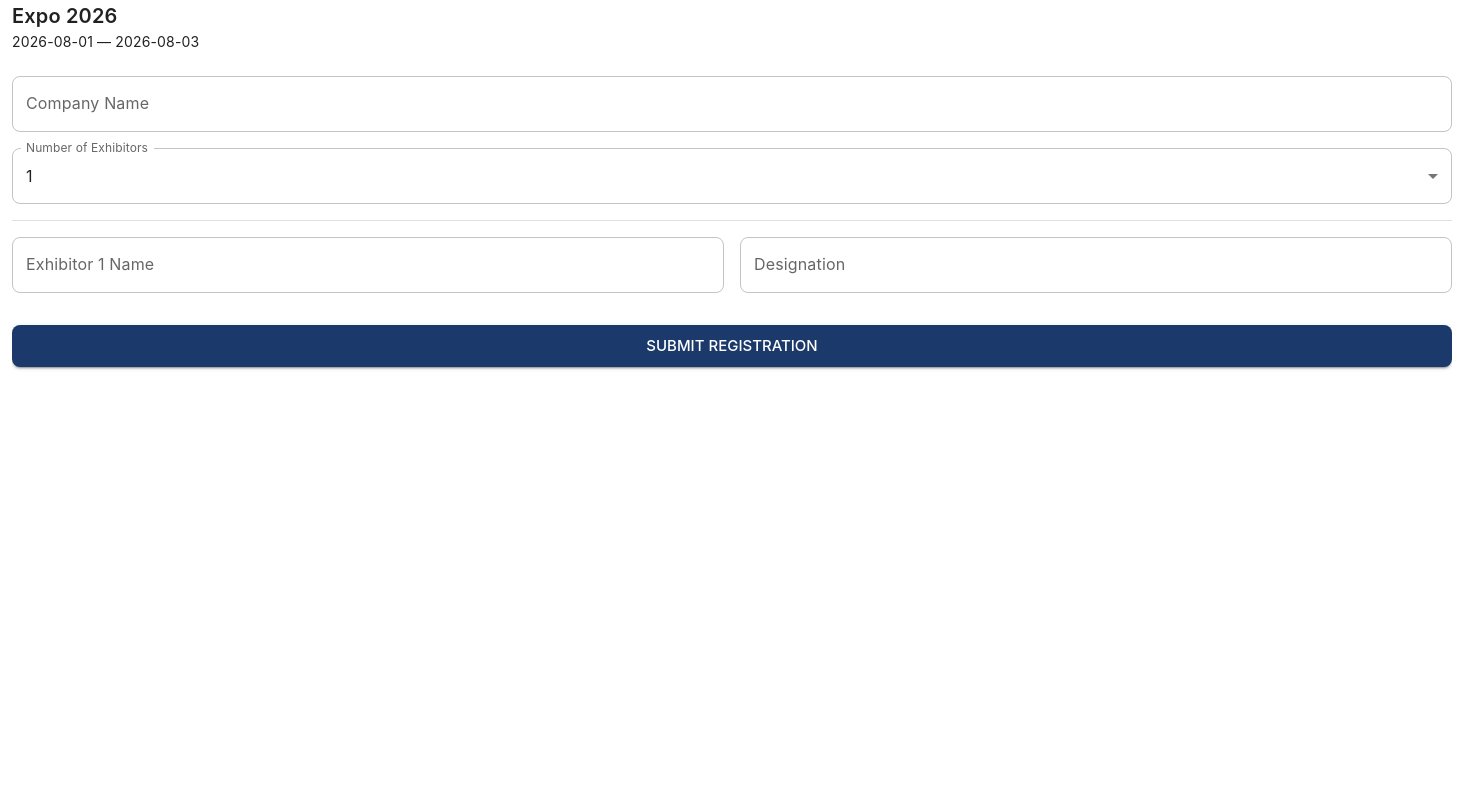
Test: RegistrationPage › renders one name/designation field pair per exhibitor and adjusts when the count changes
Expected: the heading "Expo 2026" is shown, [12,4,118,28]
Expected: the field labelled "Exhibitor 1 Name" is shown, [12,237,724,293]
Click the dropdown named "Number of Exhibitors".
click(29, 176)  # box [26,166,33,186]
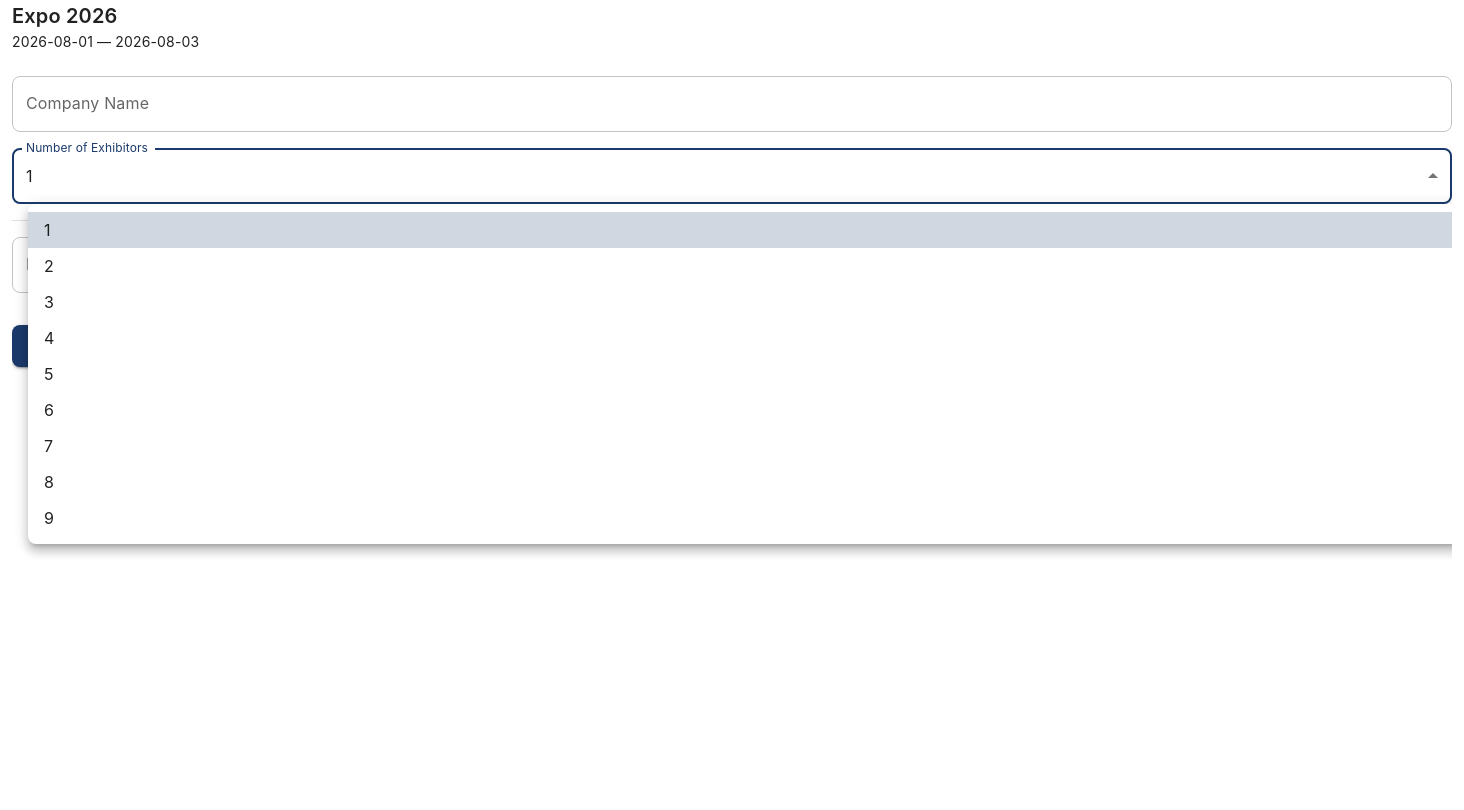
Click the option "3".
click(49, 302)  # box [44,292,54,312]
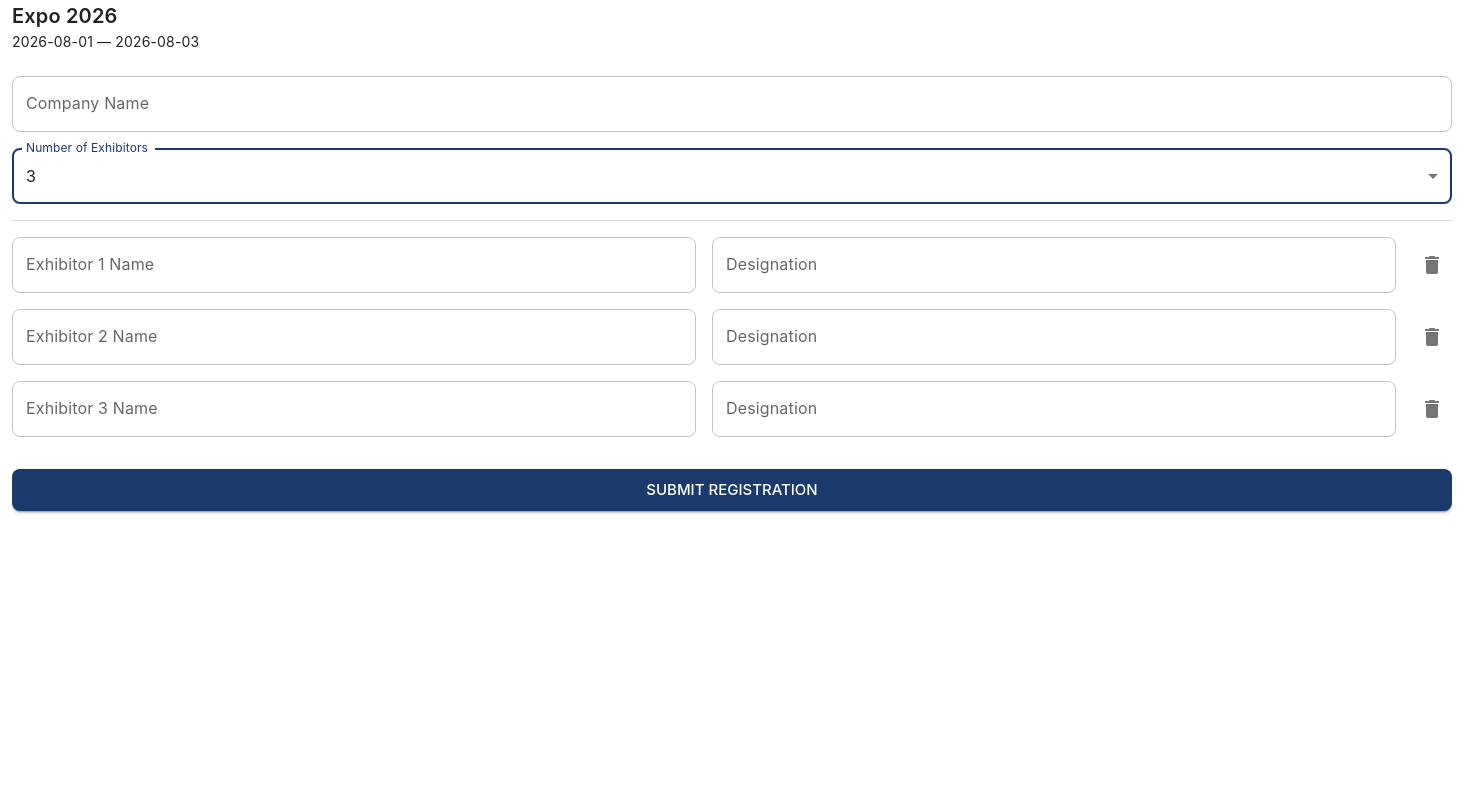
Result: the field labelled "Exhibitor 1 Name" is shown at [12,237,696,293]
Result: the field labelled "Exhibitor 2 Name" is shown at [12,309,696,365]
Result: the field labelled "Exhibitor 3 Name" is shown at [12,381,696,437]
